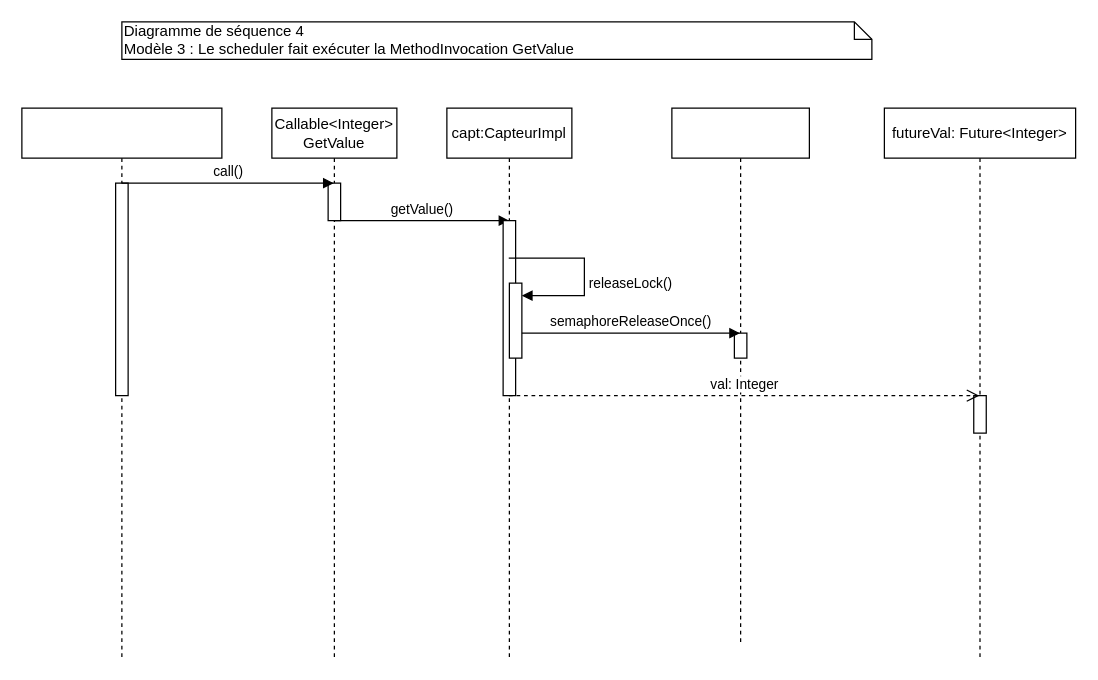
This 1098x680 diagram has some shape labels left out. Here are the shapes that lost their labels. From the top down, the centre of each, then its label:
the point at 121,382: :ScheduledExecutorService
the point at 740,376: :DiffusionAtomique
